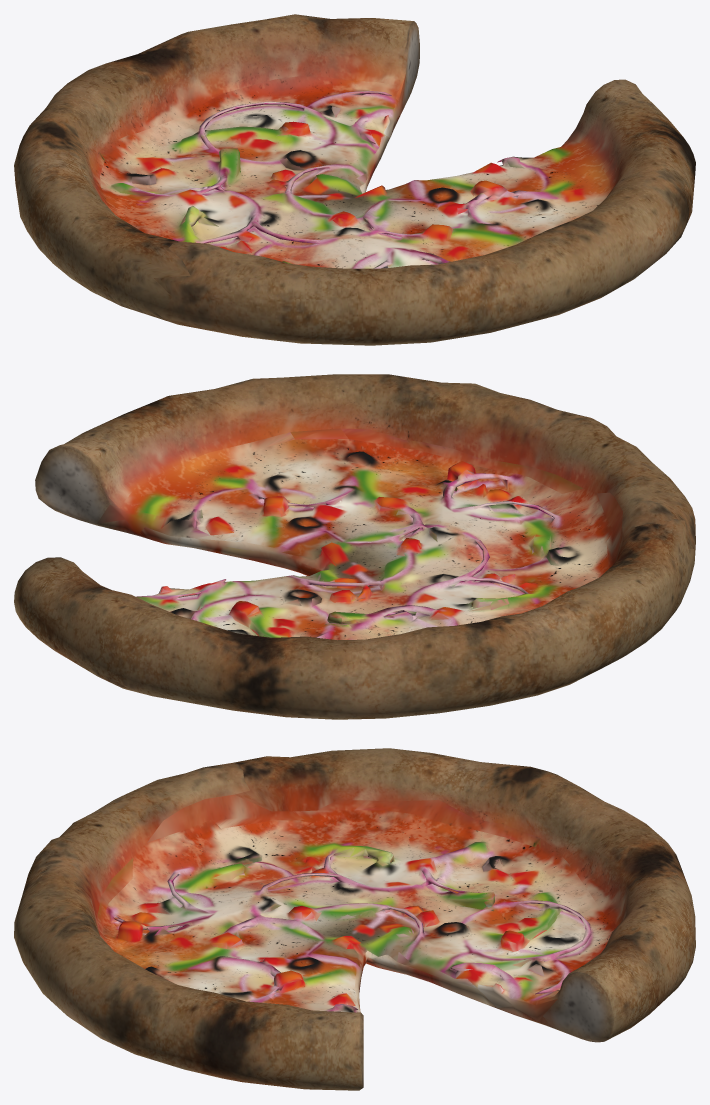
The model's file is SM_Pizza_01e.fbx.
3 views of the same model, one above another, from view 1: azimuth 30°, elevation 25°; view 2: azimuth 150°, elevation 25°; view 3: azimuth 270°, elevation 25° (orthographic). The views are drawn at different scales.
Visible parts, largest first — view 1: SM_Pizza_01e_LOD0; view 2: SM_Pizza_01e_LOD0; view 3: SM_Pizza_01e_LOD0.
Part boxes in pixels (x1=…): SM_Pizza_01e_LOD0: x1=14, y1=14, x2=695, y2=345; SM_Pizza_01e_LOD0: x1=14, y1=374, x2=695, y2=719; SM_Pizza_01e_LOD0: x1=14, y1=748, x2=695, y2=1090.
Bounding box in the file's own units: 33.36 × 33.08 × 4.44.
